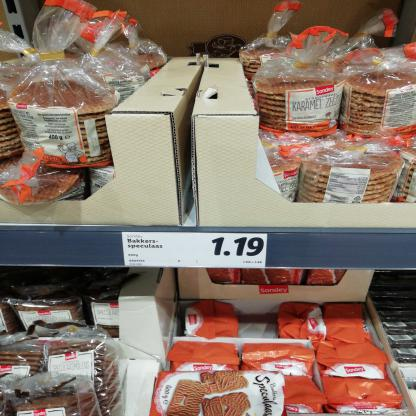prtg: (123, 233, 269, 269)
